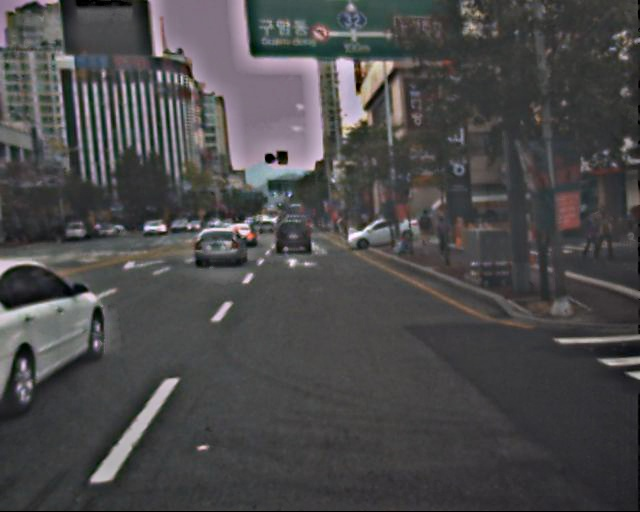person: (578, 212, 612, 267), (433, 213, 451, 258), (416, 209, 432, 249)
